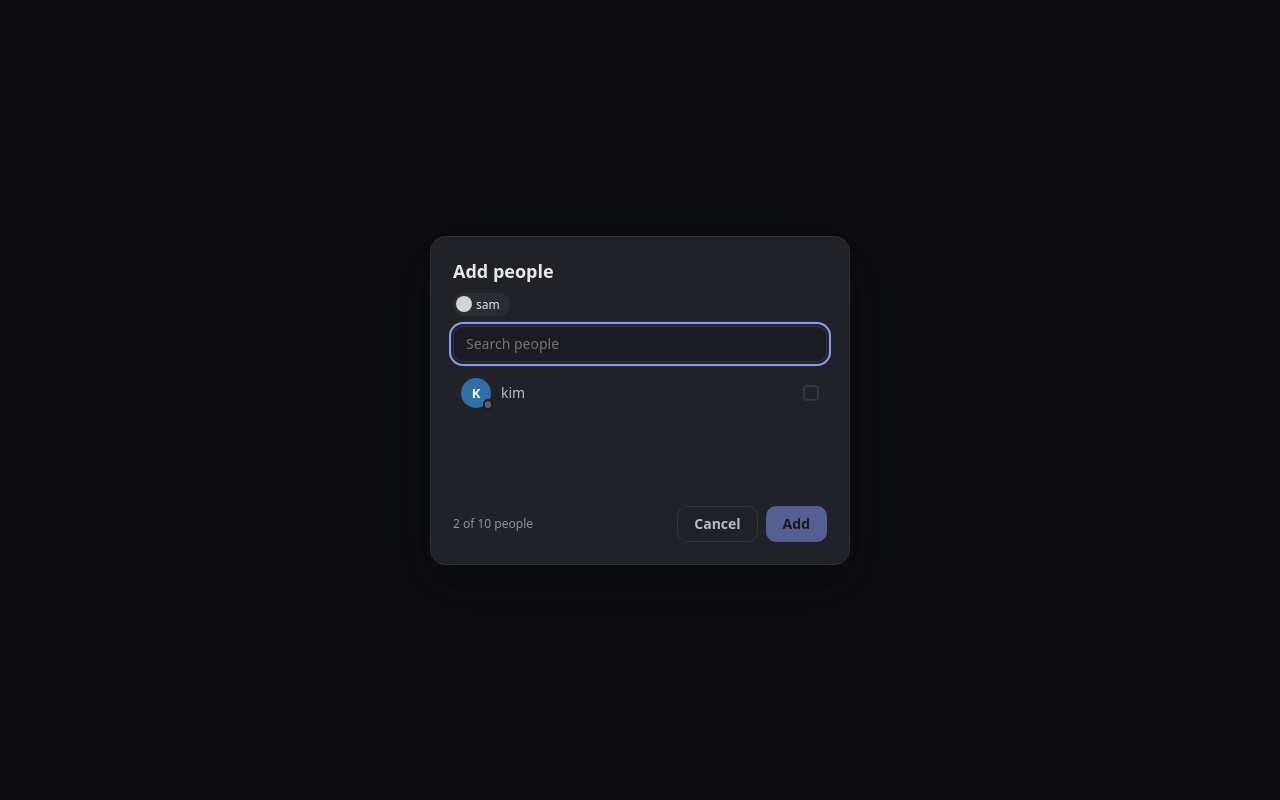
Test: PeoplePicker chips › a fixed chip and a picked chip show the person's avatar, picture or initial
Click the button "K kim".
click(476, 392)  # box 453,372 -> 827,414
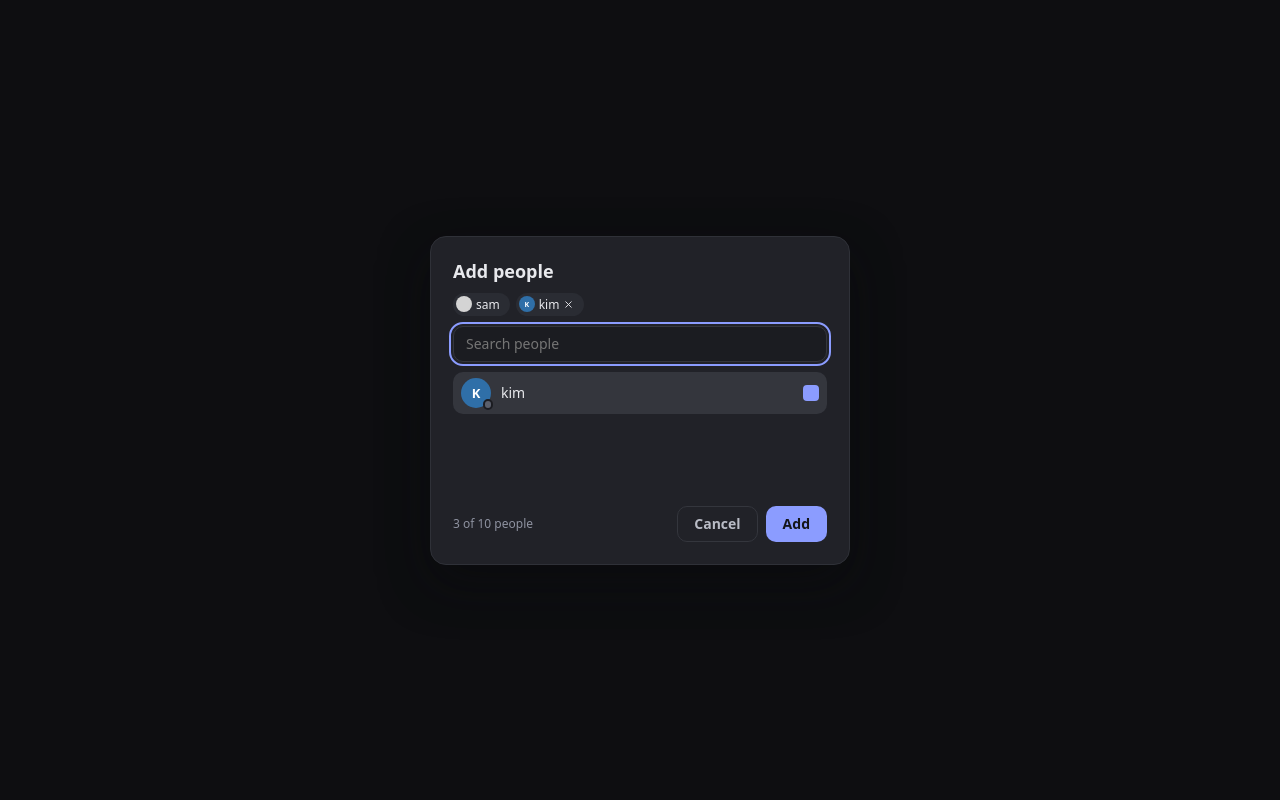
expect the text "K" is shown: met, box 519,296 -> 535,312
